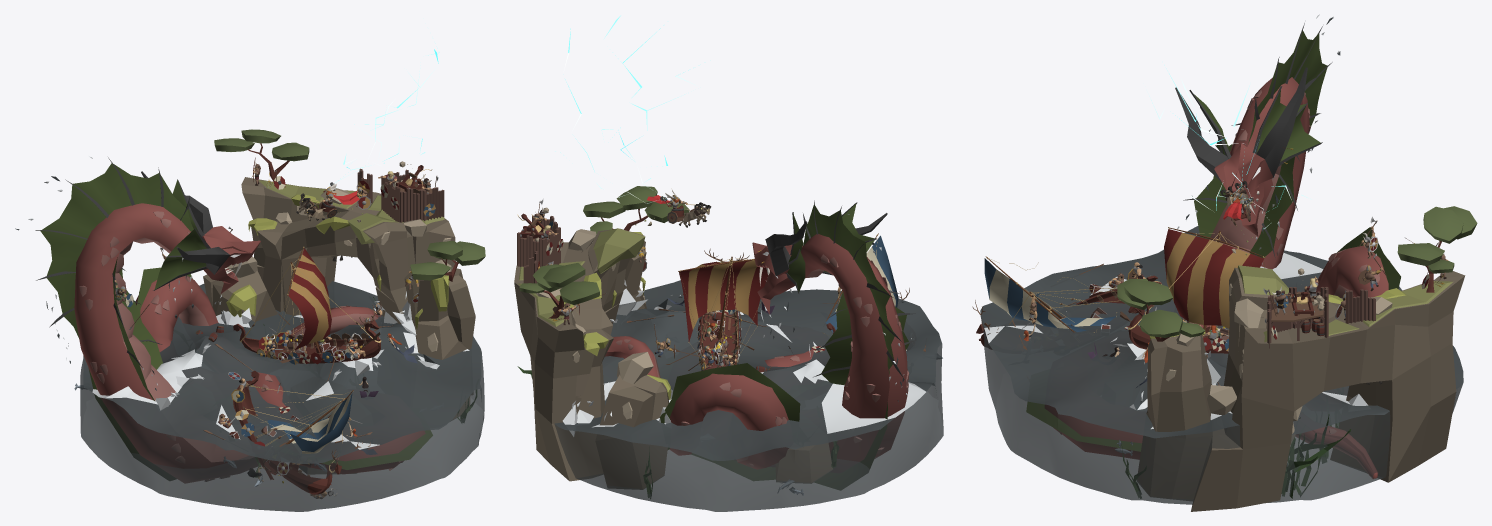
Rendered from thor_and_the_midgard_serpent.glb.
The picture shows the model from 3 angles, left to right: view 1: azimuth 30°, elevation 25°; view 2: azimuth 150°, elevation 25°; view 3: azimuth 270°, elevation 25°; orthographic projection. The views are drawn at different scales.
Visible parts, largest first — view 1: Plane.044, Circle.011, VikingShipObjects.001, Rock.021, Hide.003, Keel.002; view 2: Plane.044, Circle.011, Rock.021, VikingShipObjects.001, Keel.002; view 3: Rock.021, Plane.044, VikingShipObjects.001, Circle.011, Hide.003, Keel.002.
Part boxes in pixels (x1=…): Plane.044: x1=80, y1=281, x2=484, y2=511; Circle.011: x1=35, y1=157, x2=432, y2=482; VikingShipObjects.001: x1=15, y1=43, x2=485, y2=498; Rock.021: x1=203, y1=177, x2=475, y2=473; Hide.003: x1=233, y1=370, x2=341, y2=494; Keel.002: x1=233, y1=301, x2=381, y2=363; Plane.044: x1=534, y1=280, x2=943, y2=511; Circle.011: x1=605, y1=200, x2=916, y2=489; Rock.021: x1=514, y1=228, x2=832, y2=489; VikingShipObjects.001: x1=517, y1=15, x2=942, y2=498; Keel.002: x1=699, y1=248, x2=749, y2=368; Rock.021: x1=1137, y1=265, x2=1465, y2=511; Plane.044: x1=980, y1=226, x2=1463, y2=504; VikingShipObjects.001: x1=984, y1=14, x2=1477, y2=498; Circle.011: x1=1026, y1=23, x2=1400, y2=479; Hide.003: x1=972, y1=275, x2=1161, y2=349; Keel.002: x1=1128, y1=306, x2=1228, y2=353.
Bounding box in the file's own units: 19.06 × 18.16 × 18.32.
Materials: 7 (6 with a texture image).
